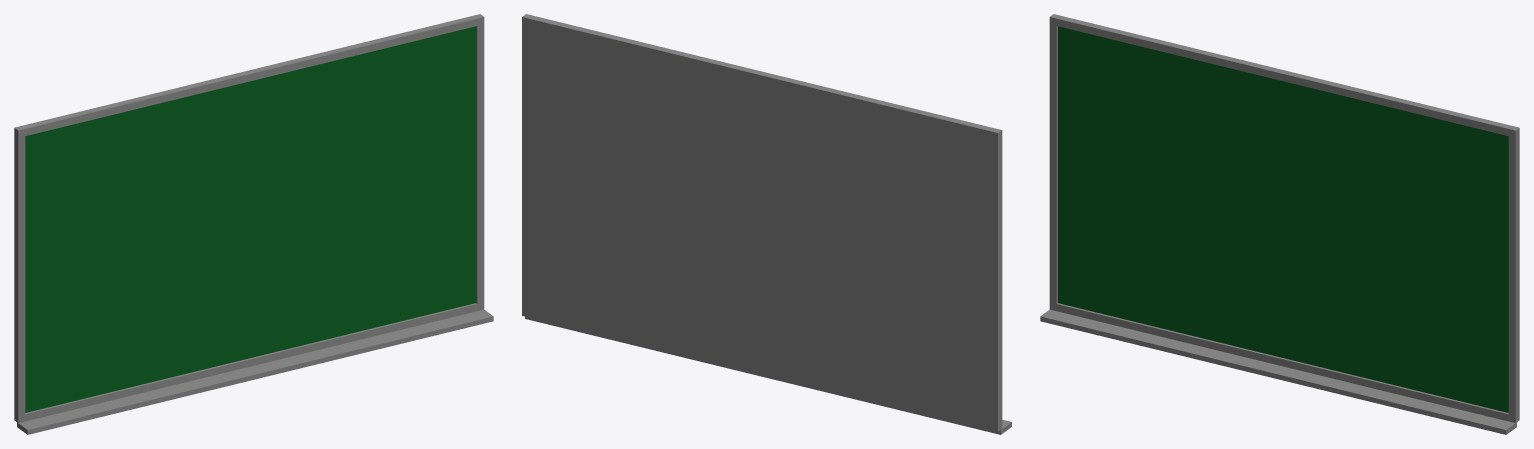
The model's file is Board.fbx.
3 renders of one model, left to right at view 1: azimuth 30°, elevation 25°; view 2: azimuth 150°, elevation 25°; view 3: azimuth 330°, elevation 25°, orthographic. The views are drawn at different scales.
Visible parts, largest first — view 1: Cube; view 2: Cube; view 3: Cube.
Boxes of the visible parts, <box> form: Cube: <box>14,14,493,434</box>; Cube: <box>522,14,1011,434</box>; Cube: <box>1040,14,1519,434</box>.
Bounding box in the file's own units: 200 × 122 × 10.
